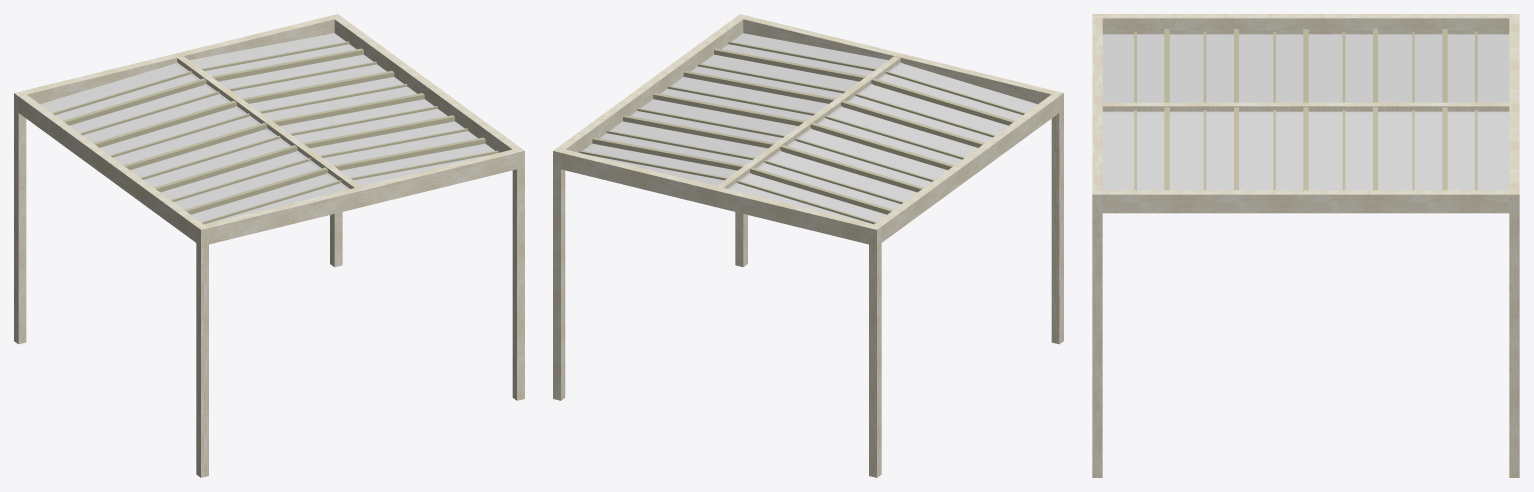
Rendered from hyr-double_h30-w40-l40_whitepine.fbx.
3 renders of one model, left to right at view 1: azimuth 30°, elevation 25°; view 2: azimuth 150°, elevation 25°; view 3: azimuth 270°, elevation 25°, orthographic. The views are drawn at different scales.
Parts seen in each view (by area): view 1: hyr-double_h30-w40-l40_whitepine; view 2: hyr-double_h30-w40-l40_whitepine; view 3: hyr-double_h30-w40-l40_whitepine.
Part boxes in pixels (bbox=[...]): hyr-double_h30-w40-l40_whitepine: bbox=[14, 14, 524, 477]; hyr-double_h30-w40-l40_whitepine: bbox=[553, 14, 1063, 477]; hyr-double_h30-w40-l40_whitepine: bbox=[1092, 14, 1519, 477].
Bounding box in the file's own units: 410 × 300 × 410.
Materials: 3 (2 with a texture image).
